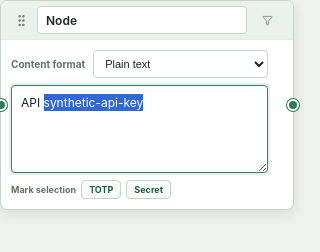
Test: InformationNodeCard › rejects invalid TOTP selections without changing the draft
Click the button "TOTP".
click(101, 189)  # box [81,180,121,199]
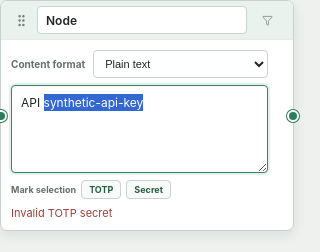
Check: the text box named "Content" holds "API synthetic-api-key", box [11,85,268,173]
Check: the message "Invalid TOTP secret" is shown, box [11,206,112,220]
